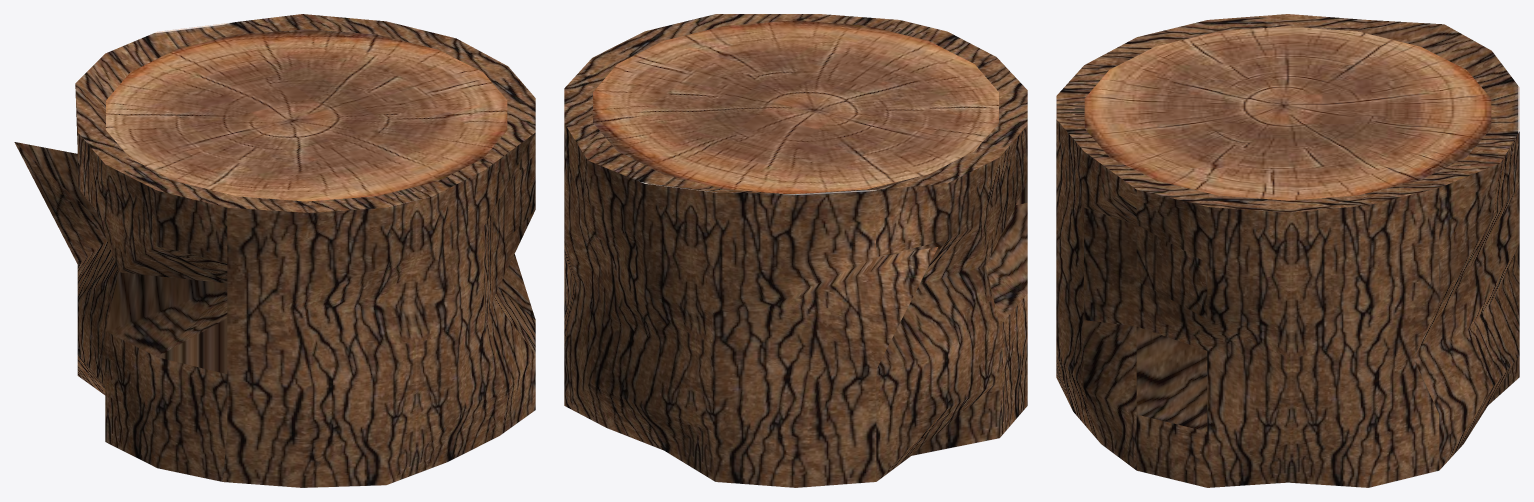
The model's file is TreeStump_Prefab.fbx.
3 renders of one model, left to right at view 1: azimuth 30°, elevation 25°; view 2: azimuth 150°, elevation 25°; view 3: azimuth 270°, elevation 25°, orthographic.
Visible parts, largest first — view 1: Cylinder001; view 2: Cylinder001; view 3: Cylinder001.
Part boxes in pixels (<box>): Cylinder001: <box>14,14,535,487</box>; Cylinder001: <box>564,14,1027,487</box>; Cylinder001: <box>1056,14,1519,487</box>.
Size of the model in its own units: 43.5 by 41.27 by 28.87.
